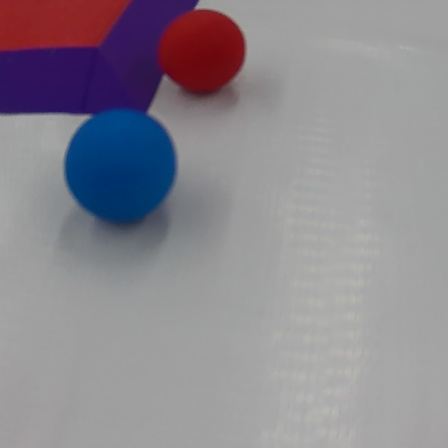blue: (65, 110, 178, 231)
red: (161, 7, 252, 98)
red_aim: (0, 0, 199, 135)
